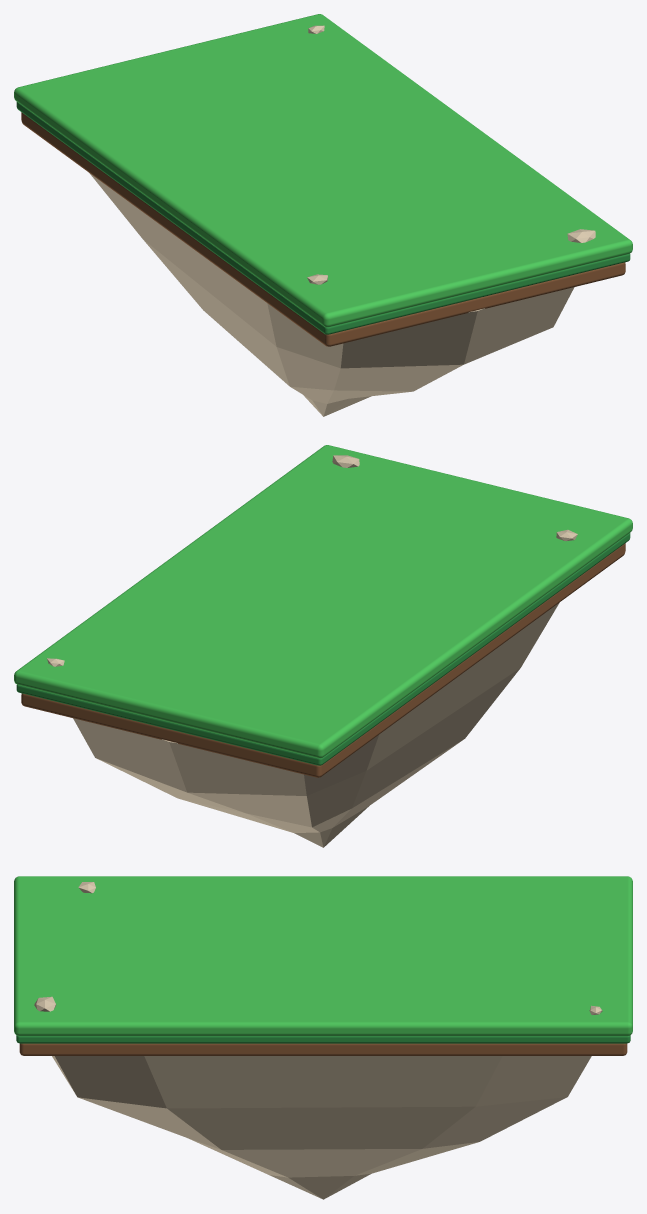
File: PLAT_Isle_XL.glb
3 views of the same model, one above another, from view 1: azimuth 30°, elevation 25°; view 2: azimuth 150°, elevation 25°; view 3: azimuth 270°, elevation 25° (orthographic).
Visible parts, largest first — view 1: Top, Underside, Soil, TopLip; view 2: Top, Underside, Soil, TopLip; view 3: Top, Underside, Soil, TopLip.
Part boxes in pixels (box(x1,y1,x2,y2)): Top: box(14, 14, 632, 327); Underside: box(89, 173, 574, 416); Soil: box(21, 112, 625, 346); TopLip: box(16, 102, 630, 334); Top: box(14, 445, 632, 758); Underside: box(73, 602, 559, 847); Soil: box(21, 543, 625, 777); TopLip: box(16, 533, 630, 765); Top: box(14, 876, 632, 1036); Underside: box(52, 1056, 591, 1199); Soil: box(19, 1043, 627, 1055); TopLip: box(16, 1035, 630, 1043).
Bounding box in the file's own units: 8 × 6.4 × 14.
